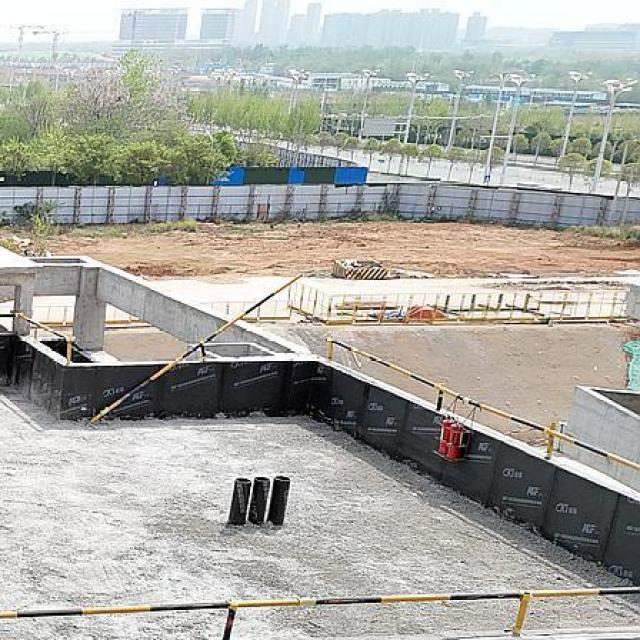edge_guardrail: (324, 336, 640, 548), (0, 583, 640, 640), (90, 272, 304, 425), (0, 311, 71, 364)
